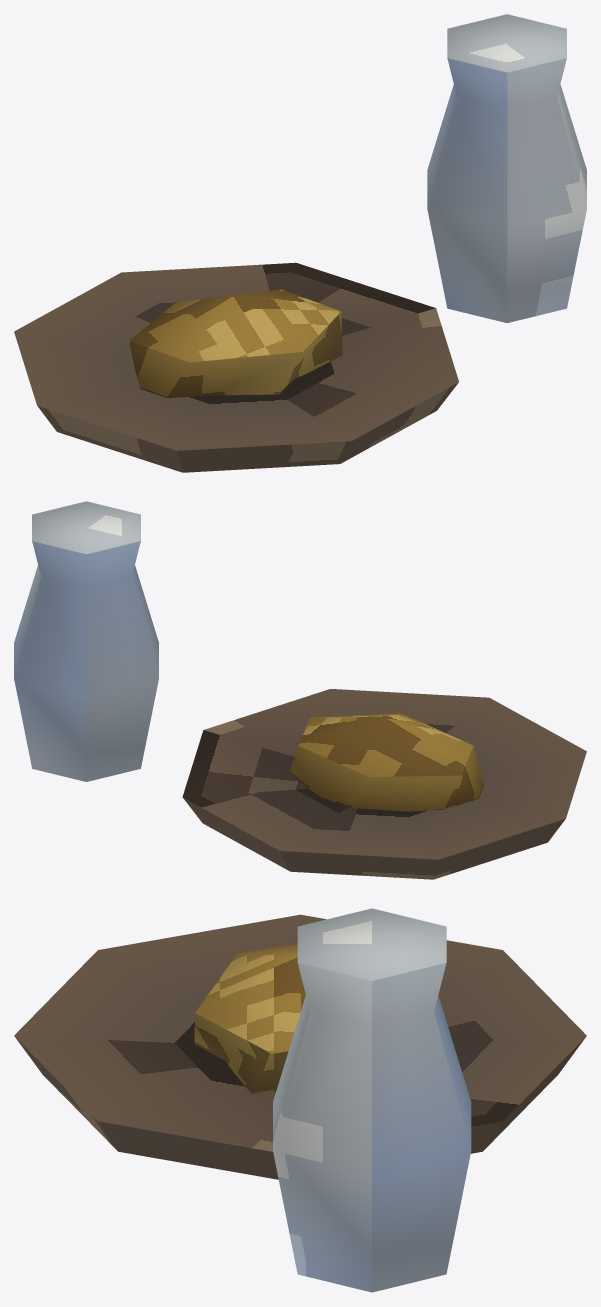
File: mprop.tableware.glb
3 views of the same model, one above another, from view 1: azimuth 30°, elevation 25°; view 2: azimuth 150°, elevation 25°; view 3: azimuth 270°, elevation 25° (orthographic). The views are drawn at different scales.
Visible parts, largest first — view 1: kit_ware, kit_food; view 2: kit_ware, kit_food; view 3: kit_ware, kit_food.
Part boxes in pixels (bbox=[...]): kit_ware: bbox=[14, 14, 586, 472]; kit_food: bbox=[129, 289, 342, 397]; kit_ware: bbox=[14, 501, 586, 879]; kit_food: bbox=[289, 713, 483, 811]; kit_ware: bbox=[14, 908, 586, 1292]; kit_food: bbox=[194, 944, 305, 1094].
Size of the model in its own units: 0.58 by 0.27 by 0.4.
3 materials, 3 textured.
